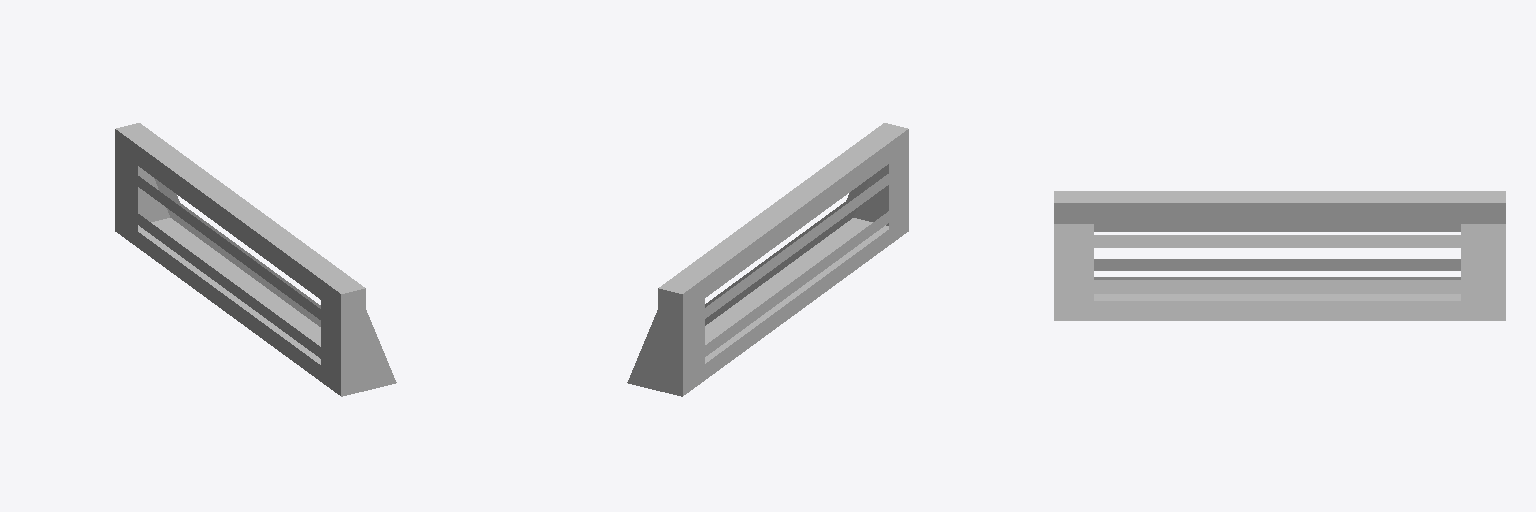
File: Valla_De_Arriba.obj
3 renders of one model, left to right at view 1: azimuth 30°, elevation 25°; view 2: azimuth 150°, elevation 25°; view 3: azimuth 270°, elevation 25°, orthographic.
Parts seen in each view (by area): view 1: polySurface8 _Cube_23_1; view 2: polySurface8 _Cube_23_1; view 3: polySurface8 _Cube_23_1.
Part boxes in pixels (left/top/right/bottom): polySurface8 _Cube_23_1: left=115, top=123, right=396, bottom=396; polySurface8 _Cube_23_1: left=627, top=123, right=908, bottom=396; polySurface8 _Cube_23_1: left=1054, top=191, right=1505, bottom=320.
Size of the model in its own units: 226 by 400 by 1600.